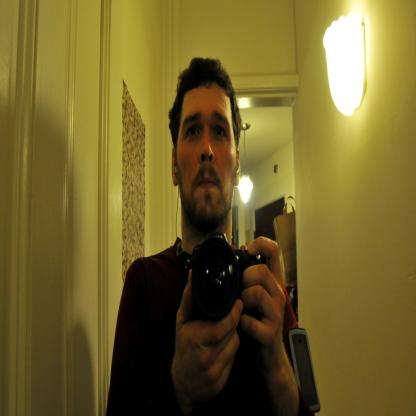Camera: (183, 229, 252, 322)
